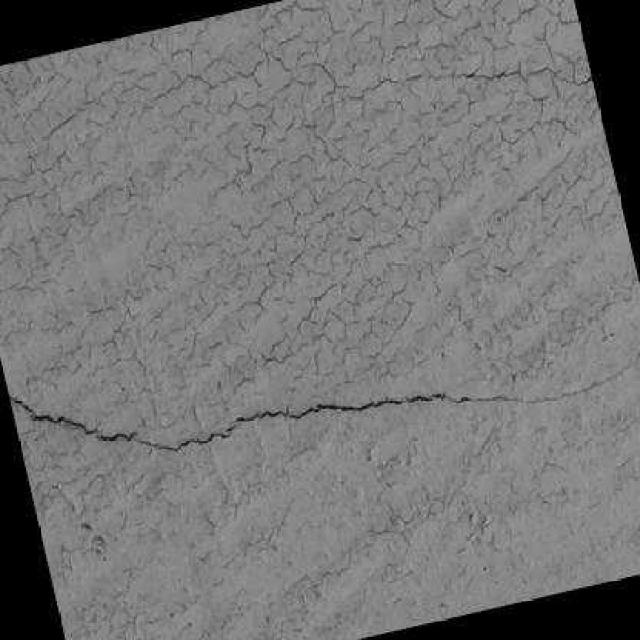D00: (15, 361, 623, 462)
